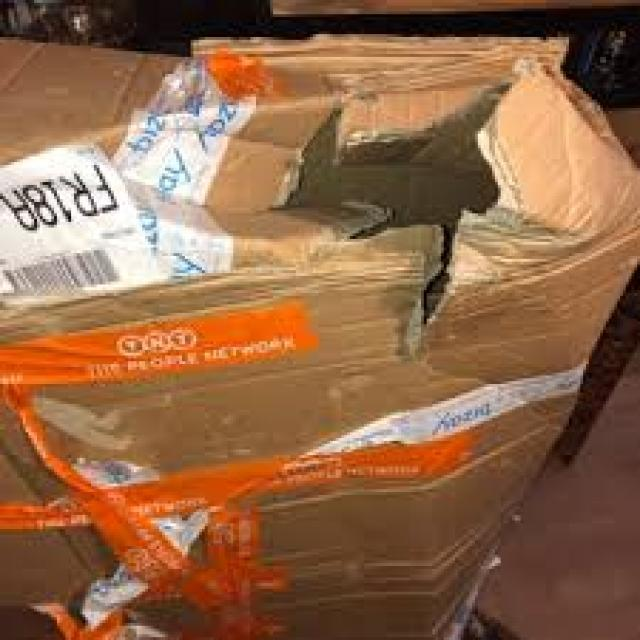hole: (258, 85, 532, 303)
